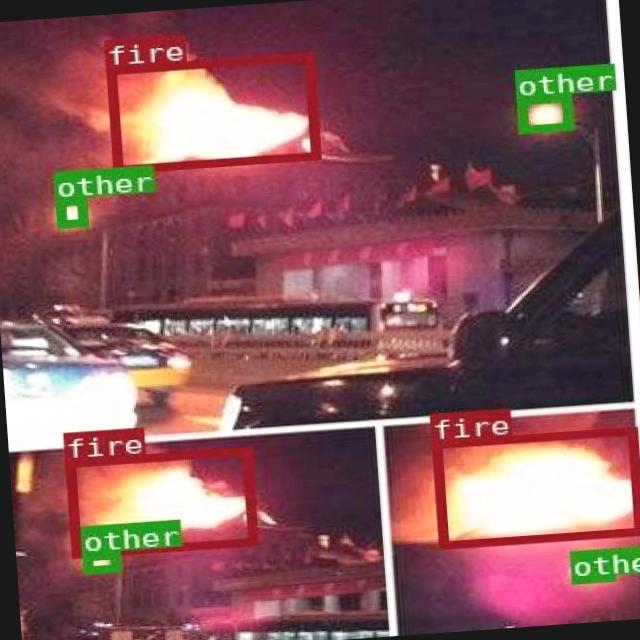fire: (429, 425, 640, 547), (104, 52, 318, 172), (64, 444, 255, 556)
